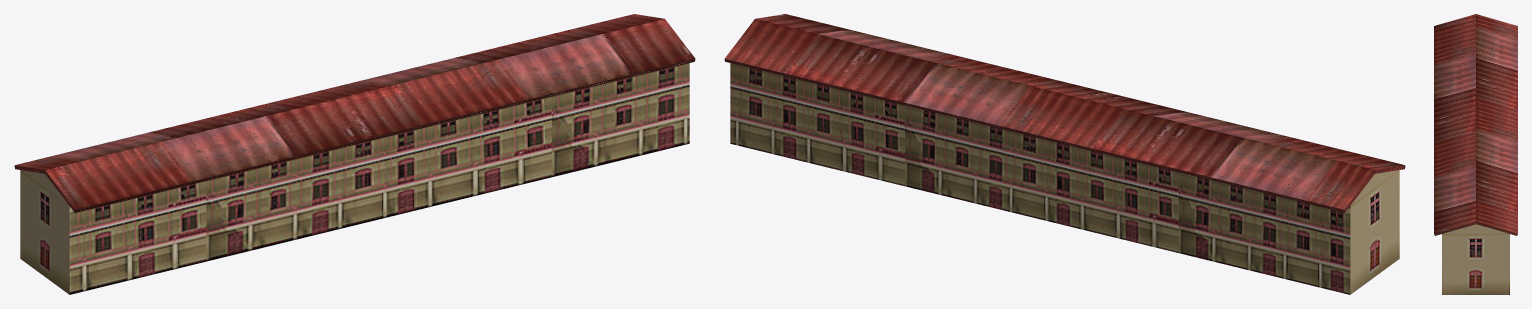
File: monoblockbloquetrasero.fbx
3 views of the same model, side by side, from view 1: azimuth 30°, elevation 25°; view 2: azimuth 150°, elevation 25°; view 3: azimuth 270°, elevation 25° (orthographic). The views are drawn at different scales.
Parts seen in each view (by area): view 1: Cube.002; view 2: Cube.002; view 3: Cube.002.
Part boxes in pixels (bbox=[...]): Cube.002: bbox=[14, 14, 695, 294]; Cube.002: bbox=[724, 14, 1405, 294]; Cube.002: bbox=[1434, 14, 1517, 294].
Bounding box in the file's own units: 9995 × 1646 × 1708.
Materials: 3 (3 with a texture image).
